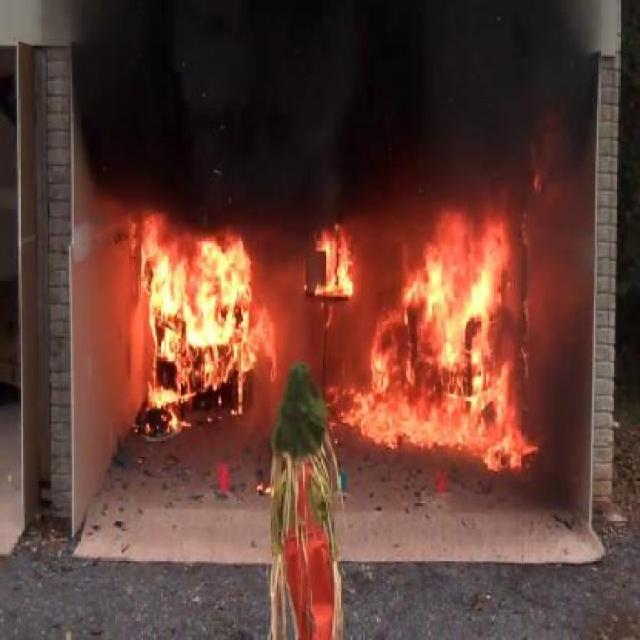fire: (35, 207, 448, 456), (245, 22, 588, 205)
